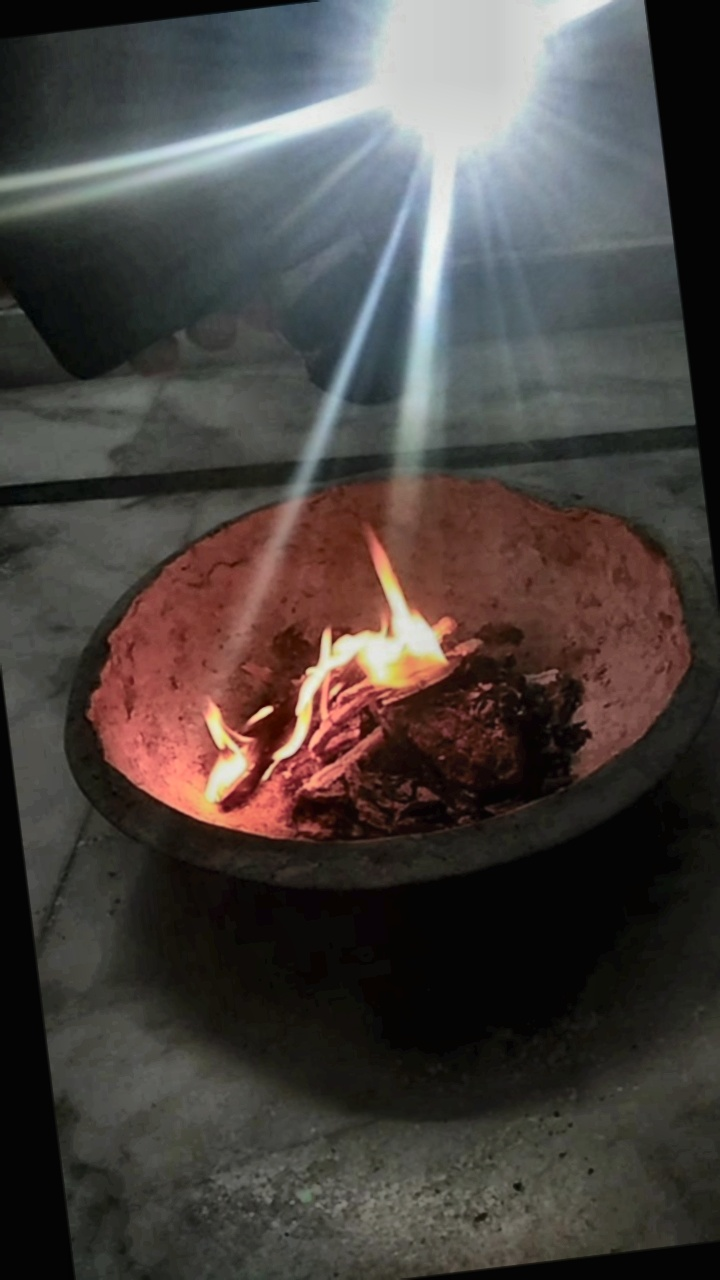fire: (268, 476, 447, 708)
